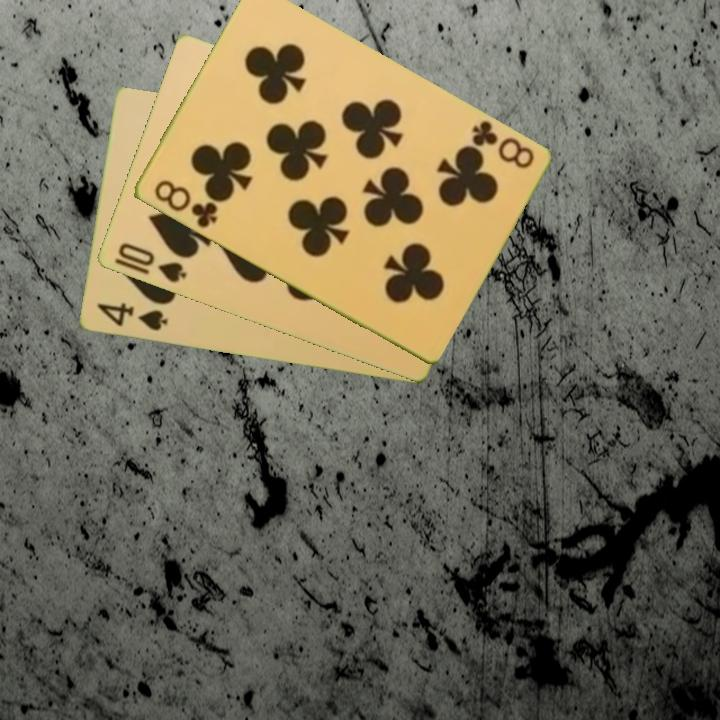10s: (114, 239, 189, 286)
4s: (93, 299, 170, 334)
8c: (150, 176, 220, 231), (467, 117, 537, 172)
